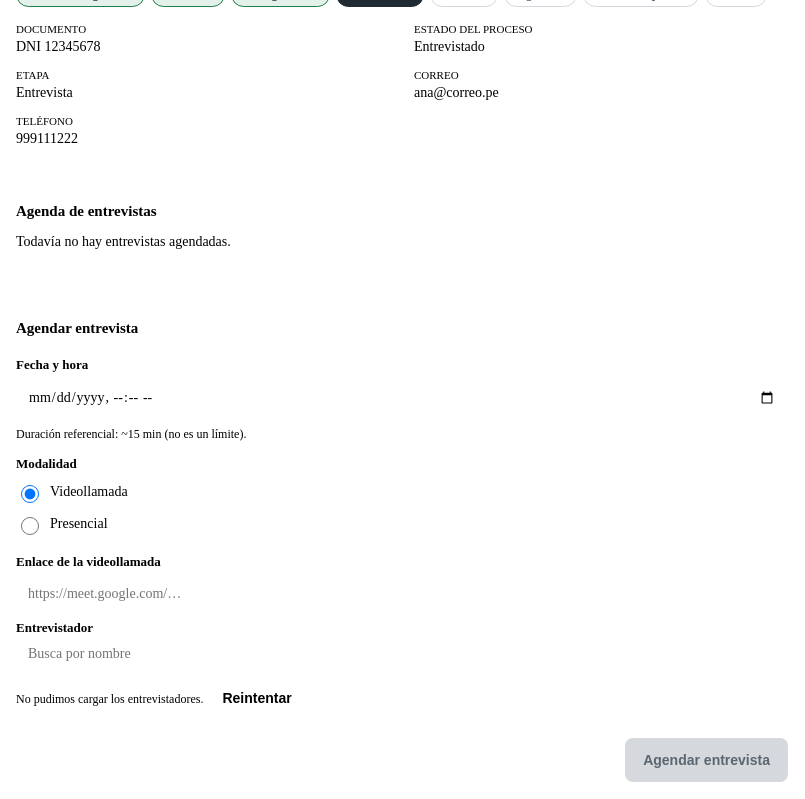
Scenario: InterviewScreen (REC-05) › si falla la carga muestra el error y permite reintentar
(page scrolled)
Expected: the text "No pudimos cargar los entrevistadores. Reintentar" is shown, [16, 676, 308, 720]
Click the button "Reintentar" at (257, 698), box [206, 676, 308, 720]
(page scrolled)
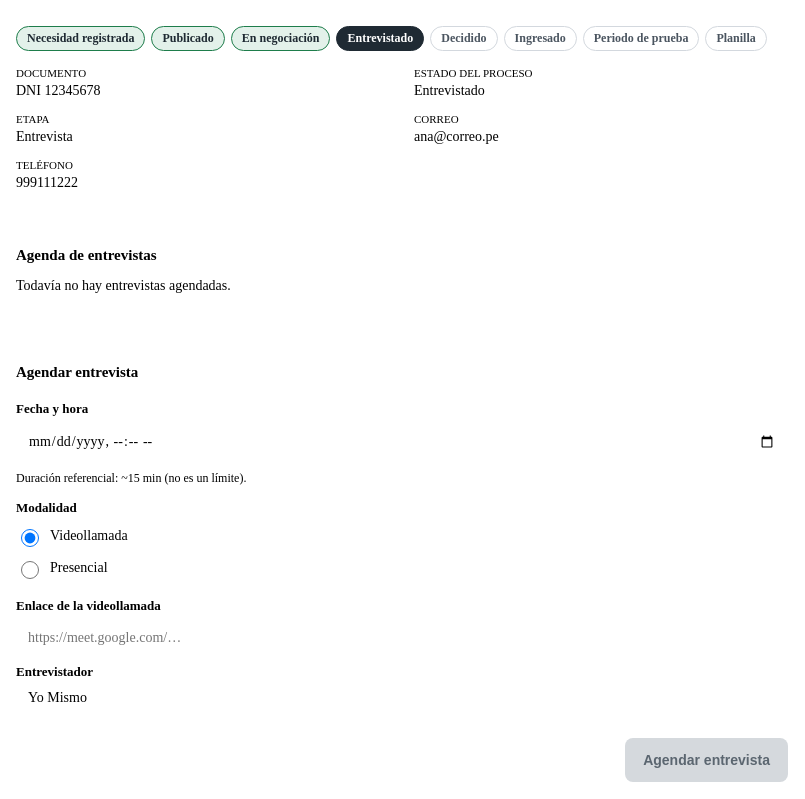
Expected: the dropdown labelled "Entrevistador" holds "Yo Mismo", [16, 680, 788, 716]
Expected: the text "No pudimos cargar los entrevistadores" is gone
